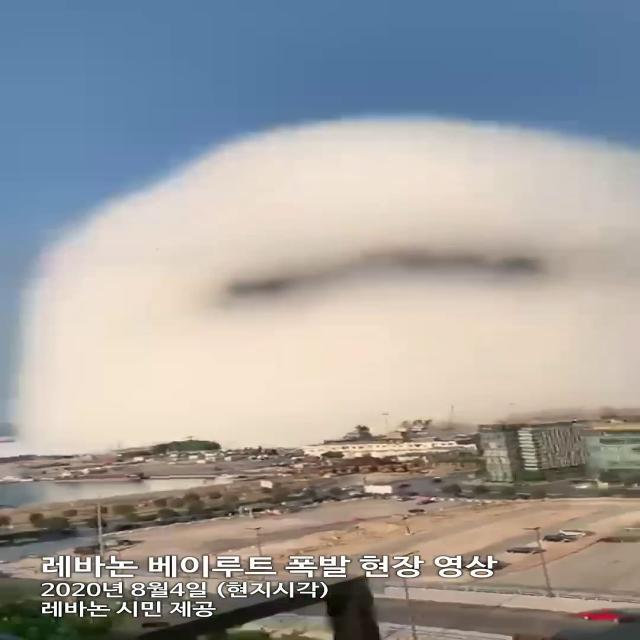explosion: (16, 108, 640, 478)
